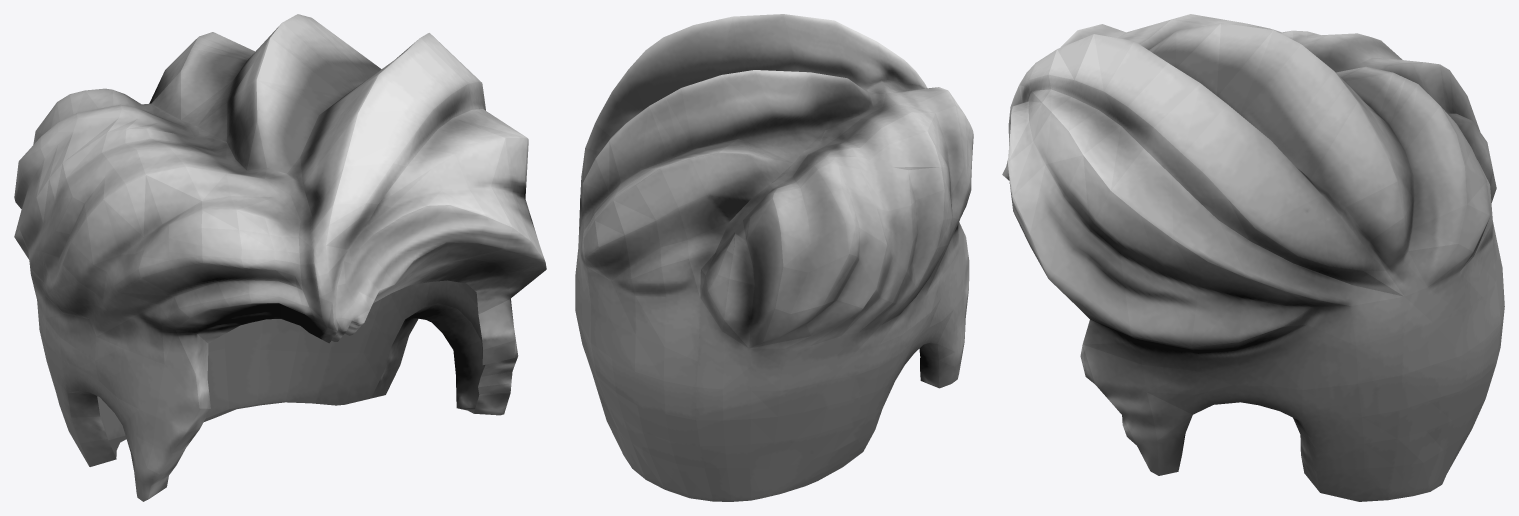
The model's file is hair-parted.glb.
The picture shows the model from 3 angles, left to right: view 1: azimuth 30°, elevation 25°; view 2: azimuth 150°, elevation 25°; view 3: azimuth 270°, elevation 25°; orthographic projection. The views are drawn at different scales.
Visible parts, largest first — view 1: hair-parted; view 2: hair-parted; view 3: hair-parted.
Part boxes in pixels (box(x1,y1,x2,y2)): hair-parted: box(14, 14, 546, 501); hair-parted: box(575, 14, 973, 501); hair-parted: box(1002, 14, 1504, 501).
Bounding box in the file's own units: 0.1754 × 0.1825 × 0.1857.
1 material, 1 textured.
